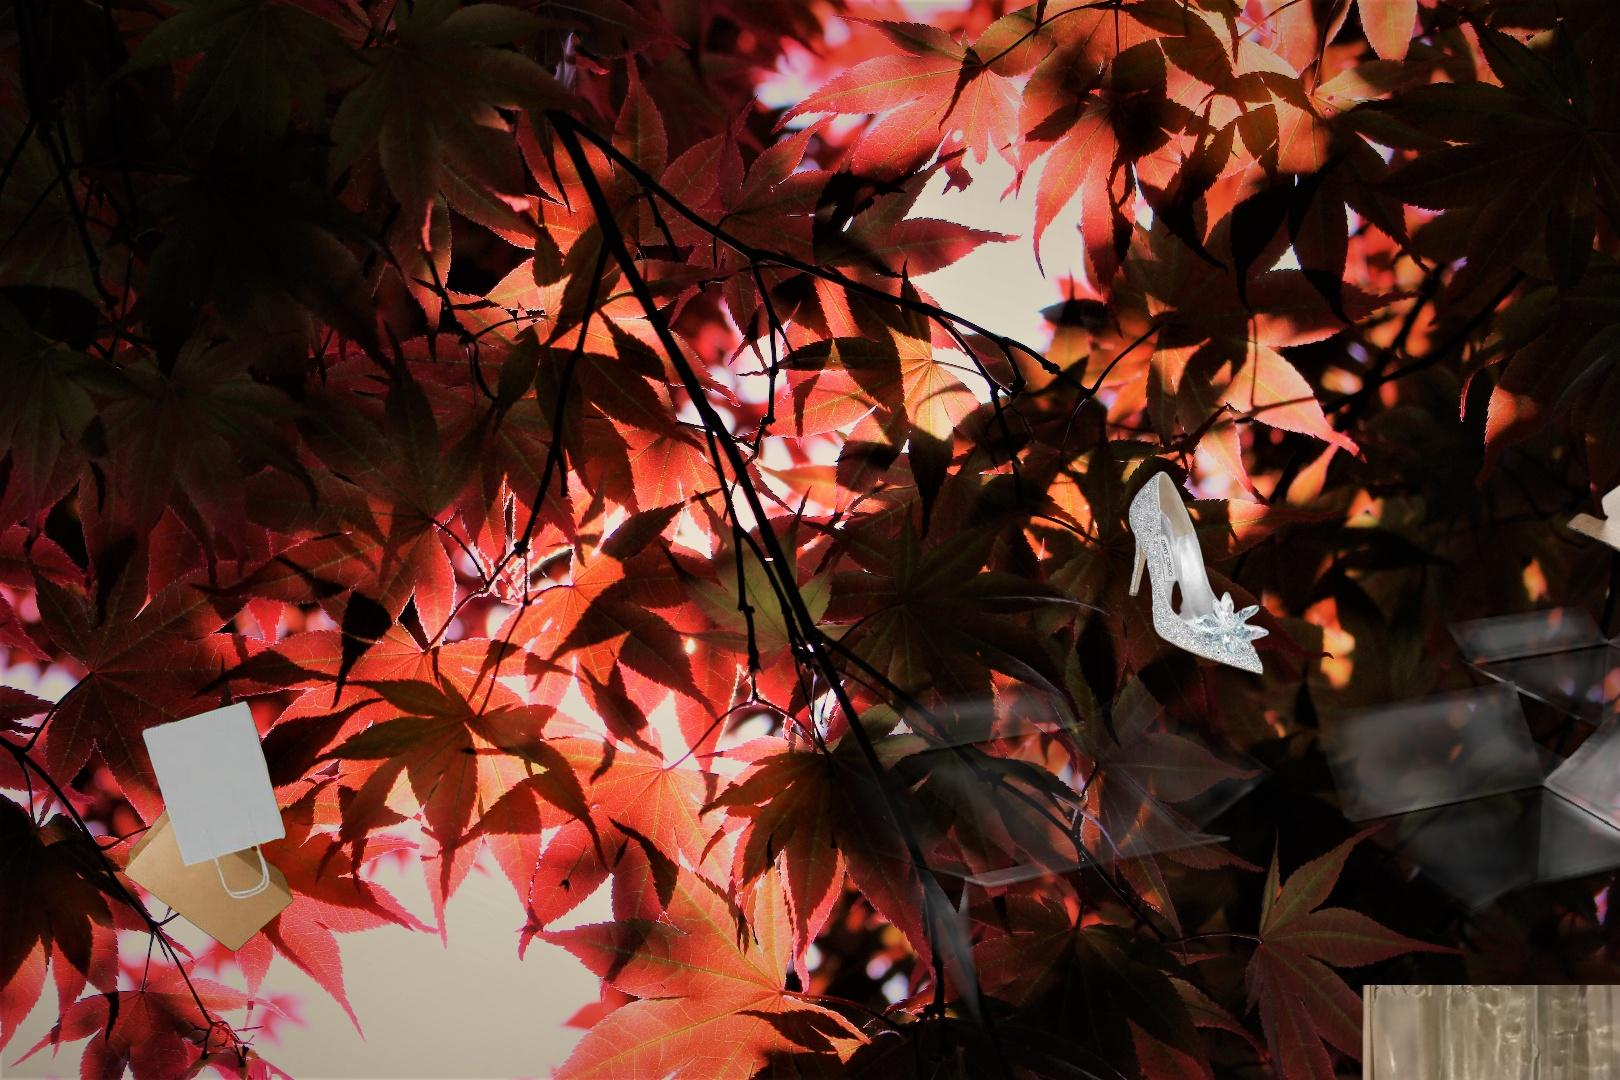glass: (1356, 985, 1620, 1080), (1290, 1025, 1618, 1080)
paper-bag: (121, 698, 297, 955)
shoes: (1126, 469, 1272, 677)
trashbox-cardboard: (585, 592, 1620, 1080), (1510, 348, 1620, 676)
